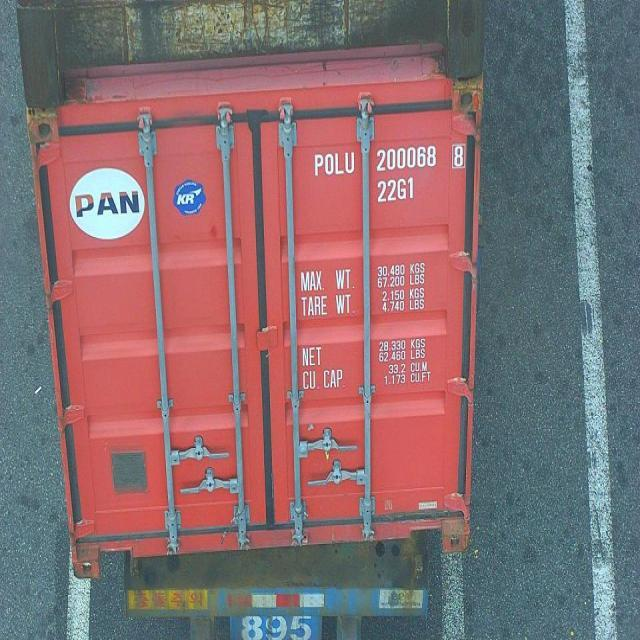ISO: (377, 177, 419, 200)
container_number: (313, 145, 467, 171)
